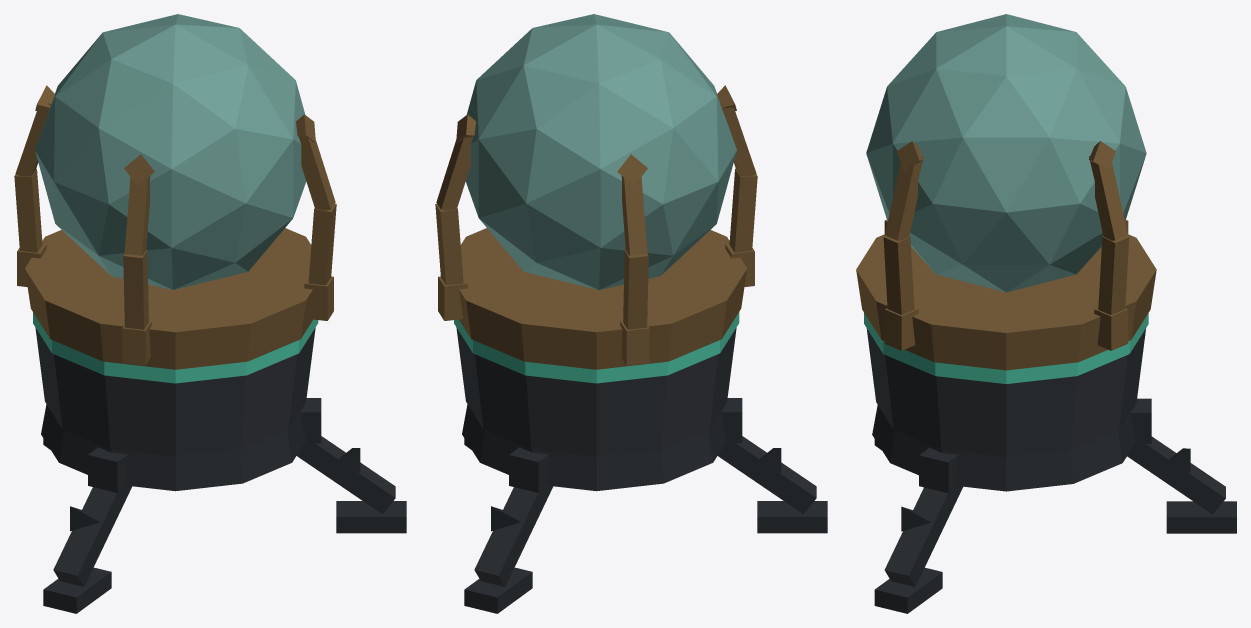
File: marble_sphere.glb
The picture shows the model from 3 angles, left to right: view 1: azimuth 30°, elevation 25°; view 2: azimuth 150°, elevation 25°; view 3: azimuth 270°, elevation 25°; orthographic projection.
Visible parts, largest first — view 1: 369_crystal_orb_weapon; view 2: 369_crystal_orb_weapon; view 3: 369_crystal_orb_weapon.
Boxes of the visible parts, box(x1,y1,x2,y2) form: 369_crystal_orb_weapon: box(14, 14, 406, 613); 369_crystal_orb_weapon: box(435, 14, 827, 613); 369_crystal_orb_weapon: box(856, 14, 1236, 613).
Bounding box in the file's own units: 0.4174 × 0.55 × 0.38.
